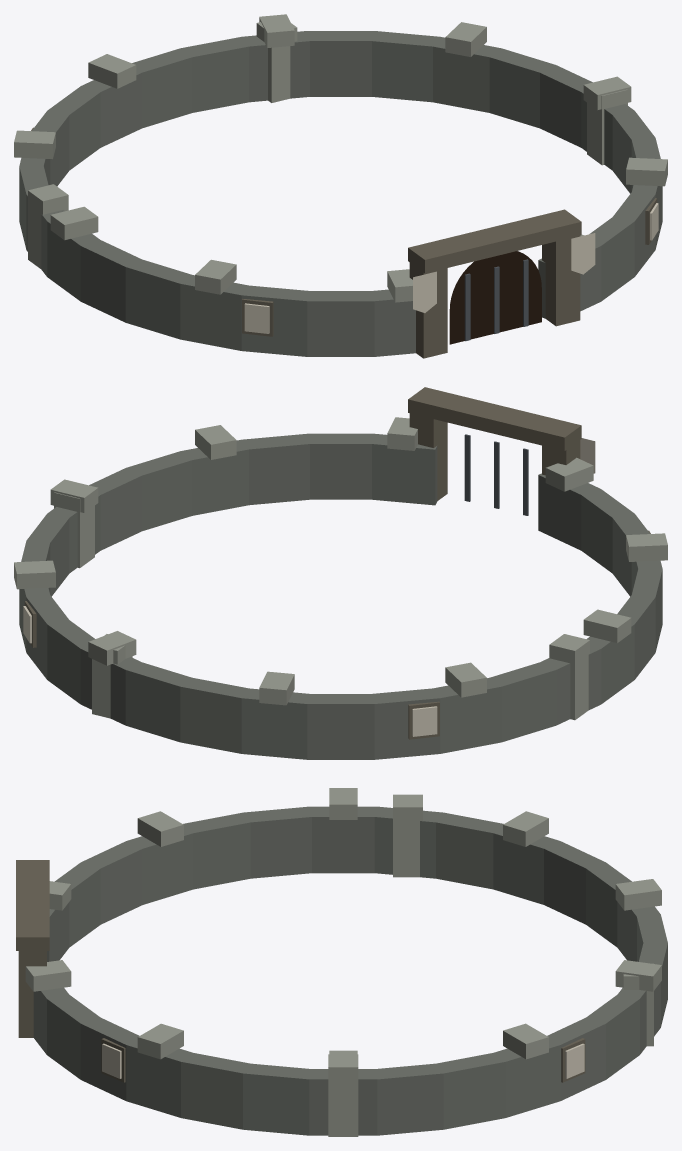
The model's file is wall-L2.glb.
The picture shows the model from 3 angles, top to bottom: view 1: azimuth 30°, elevation 25°; view 2: azimuth 150°, elevation 25°; view 3: azimuth 270°, elevation 25°; orthographic projection.
Bounding box in the file's own units: 7.02 × 1.18 × 6.95.
